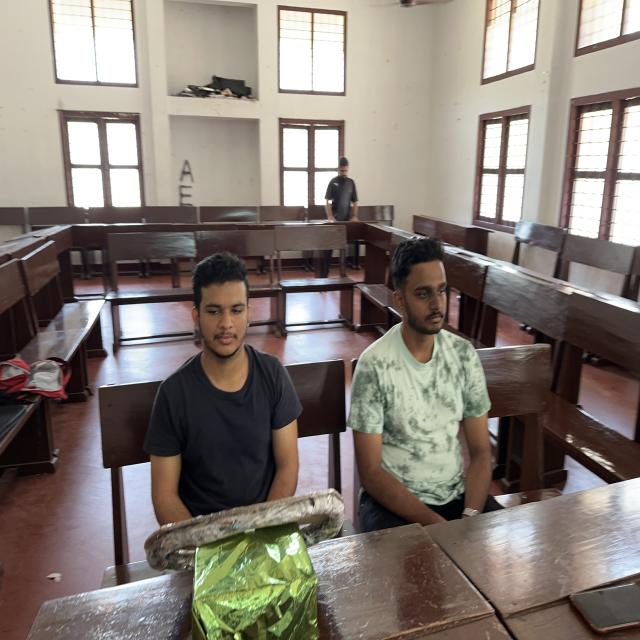Helmet: (350, 330, 494, 542), (148, 348, 302, 542)
